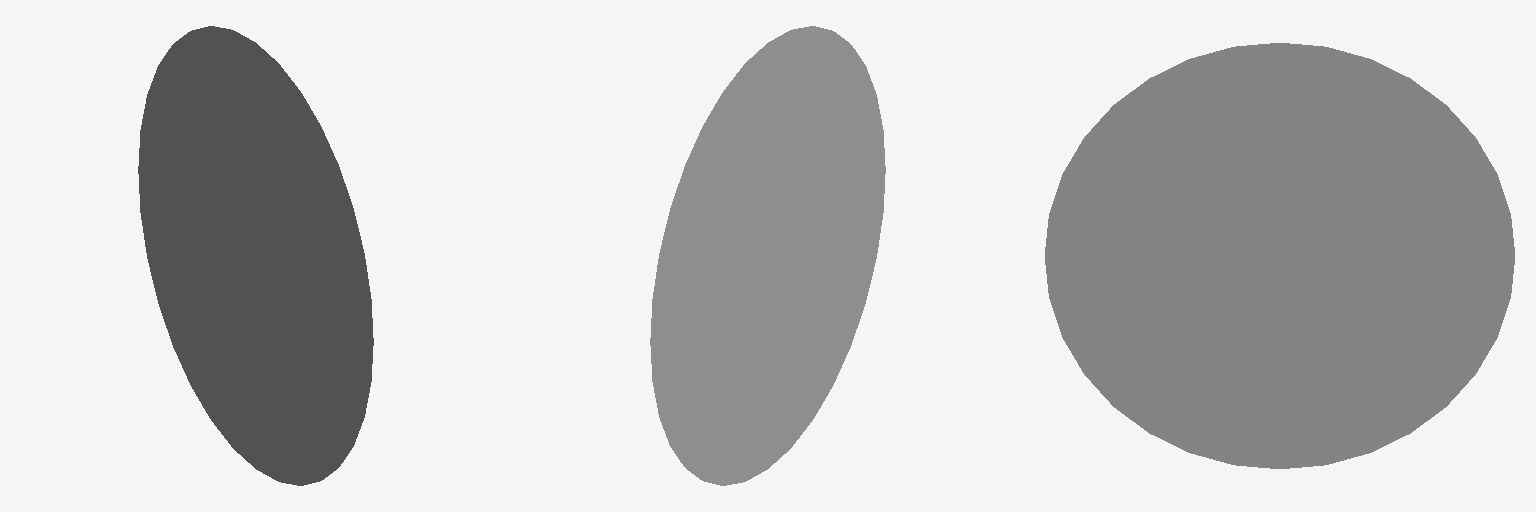
The model's file is sensor.obj.
The picture shows the model from 3 angles: view 1: azimuth 30°, elevation 25°; view 2: azimuth 150°, elevation 25°; view 3: azimuth 270°, elevation 25°; orthographic projection.
Parts seen in each view (by area): view 1: sensor_Cylinder.018; view 2: sensor_Cylinder.018; view 3: sensor_Cylinder.018.
Part boxes in pixels (x1,y1,x2,y2): sensor_Cylinder.018: (138, 26, 373, 485); sensor_Cylinder.018: (650, 26, 885, 485); sensor_Cylinder.018: (1045, 43, 1514, 468).
Size of the model in its own units: 0 by 0.002 by 0.002.